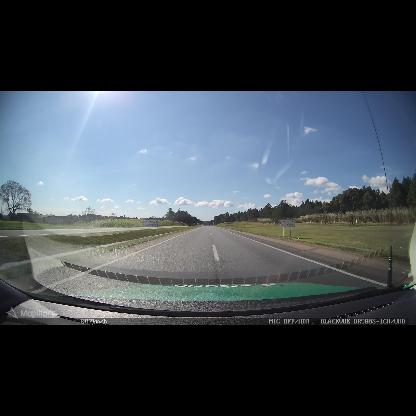I-SA: (143, 219, 158, 227), (280, 219, 295, 227)
